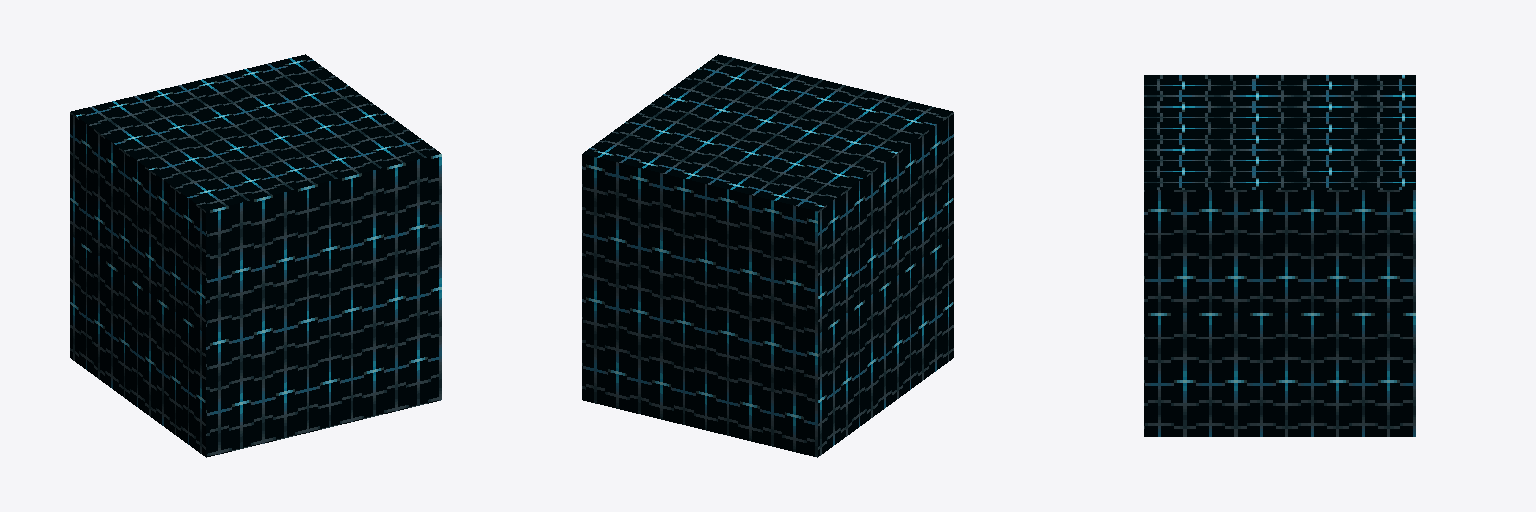
3 views of the same model, side by side, from view 1: azimuth 30°, elevation 25°; view 2: azimuth 150°, elevation 25°; view 3: azimuth 270°, elevation 25° (orthographic).
Visible parts, largest first — view 1: Cube; view 2: Cube; view 3: Cube.
Boxes of the visible parts, box(x1,y1,x2,y2) form: Cube: box(70, 54, 441, 457); Cube: box(582, 54, 953, 457); Cube: box(1144, 75, 1415, 436).
Size of the model in its own units: 2 by 2 by 2.
1 materials, 1 textured.